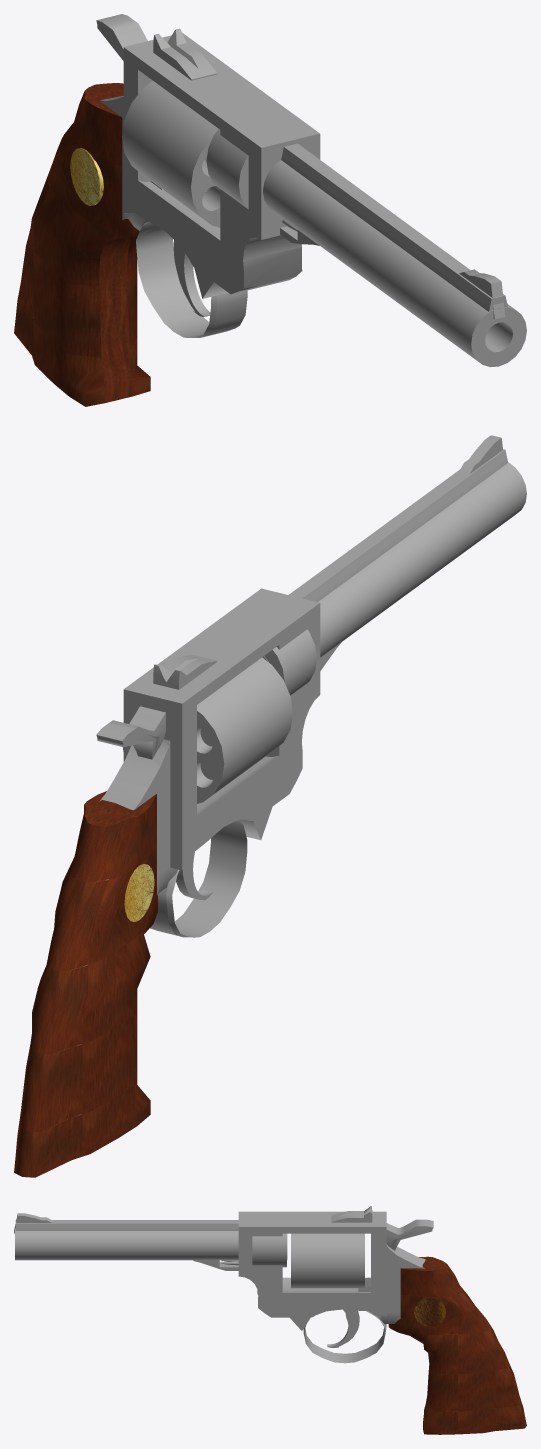
The model's file is revolver.fbx.
3 views of the same model, one above another, from view 1: azimuth 30°, elevation 25°; view 2: azimuth 150°, elevation 25°; view 3: azimuth 270°, elevation 25° (orthographic). The views are drawn at different scales.
Visible parts, largest first — view 1: GHandle, GBody4, GNeck, GMagazine, GNeckHead, GHandCover, GNeckArmor, GAiming, pCylinder27, GTrigger1, GTrigger, GFrontSight (+1 smaller); view 2: GHandle, GBody4, GNeck, GMagazine, GNeckHead, GHandCover, GBody5, GTrigger1, GNeckArmor, GAiming, pCylinder27; view 3: GHandle, GBody4, GNeck, GMagazine, GNeckHead, GBody5, GNeckArmor, GHandCover, GTrigger1, pCylinder27, GAiming, GTrigger (+1 smaller).
Boxes of the visible parts, <box> form: GHandle: <box>14,83,150,406</box>; GBody4: <box>123,33,320,298</box>; GNeck: <box>263,160,526,367</box>; GMagazine: <box>122,81,220,227</box>; GNeckHead: <box>281,143,507,311</box>; GHandCover: <box>136,222,247,337</box>; GNeckArmor: <box>206,129,248,209</box>; GAiming: <box>153,28,217,80</box>; pCylinder27: <box>70,148,103,205</box>; GTrigger1: <box>96,14,147,60</box>; GTrigger: <box>173,240,210,316</box>; GFrontSight: <box>459,269,505,319</box>; GHandle: <box>14,791,157,1177</box>; GBody4: <box>123,588,320,870</box>; GNeck: <box>262,462,526,661</box>; GMagazine: <box>122,657,292,803</box>; GNeckHead: <box>289,449,508,601</box>; GHandCover: <box>150,819,247,937</box>; GBody5: <box>99,739,177,895</box>; GTrigger1: <box>96,706,165,759</box>; GNeckArmor: <box>264,629,316,695</box>; GAiming: <box>153,654,217,689</box>; pCylinder27: <box>124,864,154,921</box>; GHandle: <box>388,1256,526,1434</box>; GBody4: <box>238,1211,386,1330</box>; GNeck: <box>15,1229,287,1260</box>; GMagazine: <box>291,1233,364,1288</box>; GNeckHead: <box>15,1220,238,1230</box>; GBody5: <box>358,1244,425,1323</box>; GNeckArmor: <box>252,1233,286,1267</box>; GHandCover: <box>303,1311,386,1363</box>; GTrigger1: <box>386,1219,433,1250</box>; pCylinder27: <box>414,1298,445,1326</box>; GAiming: <box>331,1206,372,1222</box>; GTrigger: <box>327,1309,359,1347</box>.
Size of the model in its own units: 3.98 by 14.93 by 32.09.
3 materials, 2 textured.
